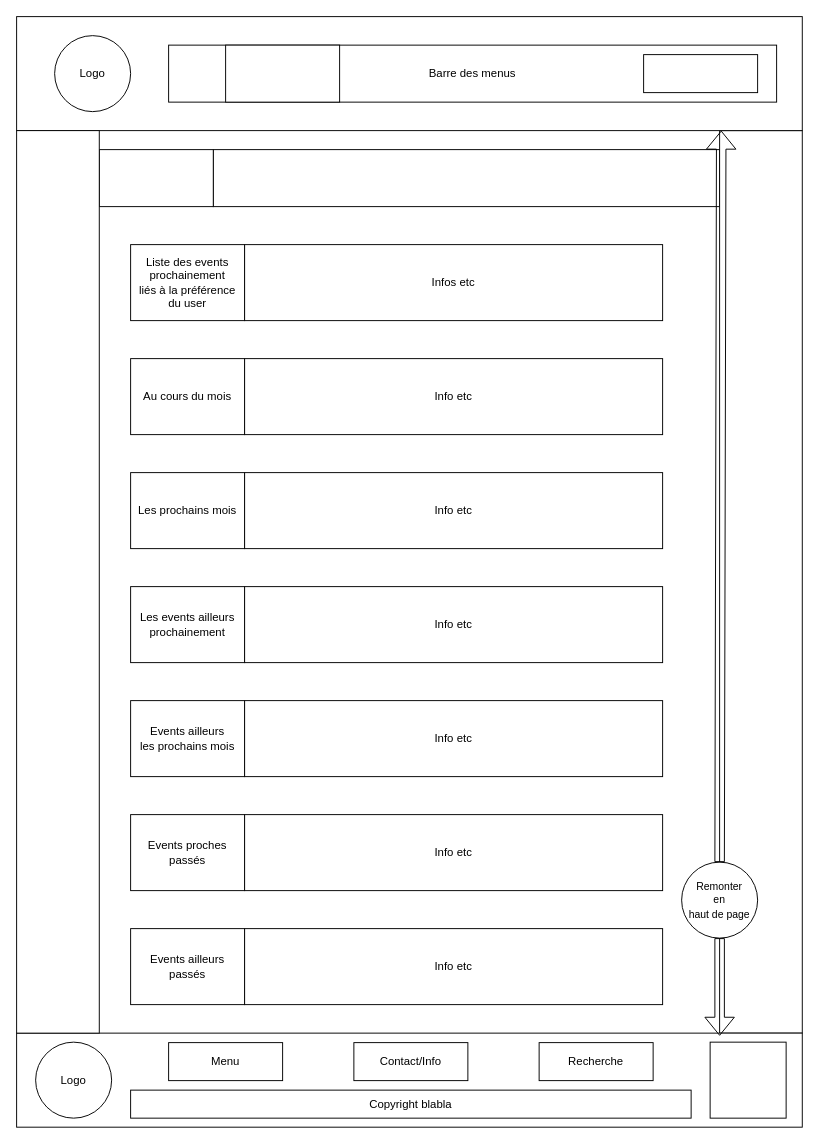
The diagram is 819 pixels wide and 1144 high, and some of its shapes have lost their labels. Each missing label, with the centre of its shape:
"Barre de recherche" goes at (700,73).
"Events (couleurs inversées)" goes at (282,73).
"Filtres, jour max, périodes, lieux, type" goes at (466,178).
"Mon Profil" goes at (747,1079).
"Titre de menu" goes at (155,178).
